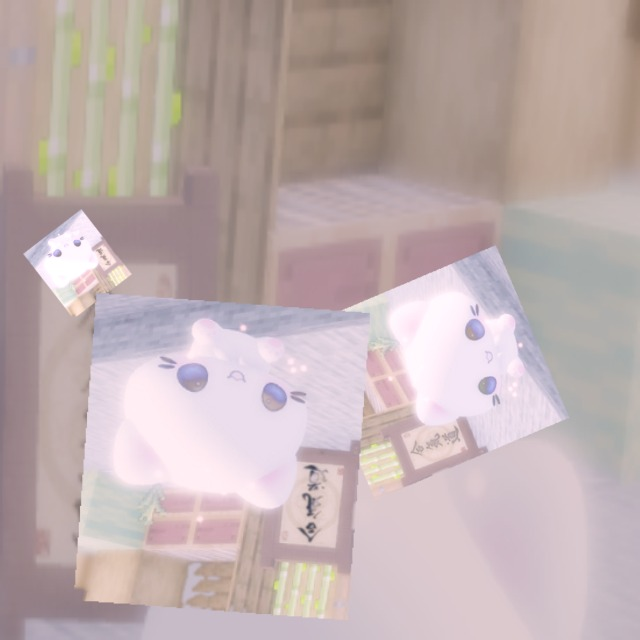urso_branco: (73, 292, 371, 621), (301, 245, 570, 500), (23, 209, 132, 319)
urso_preto: (94, 394, 387, 617)
